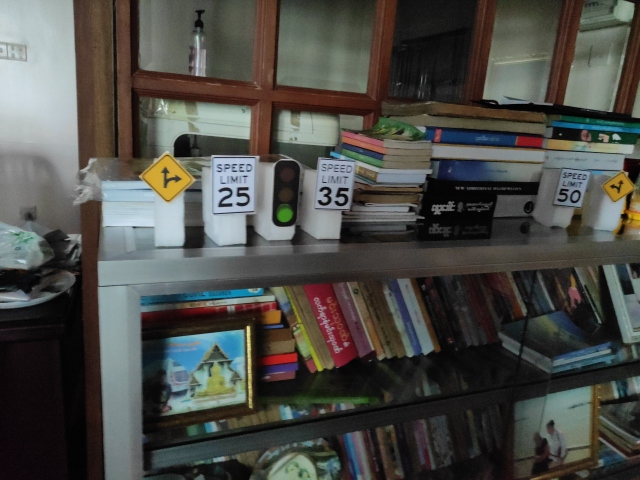Green Traffic Light: (272, 159, 301, 227)
Speed Limit 25: (211, 154, 258, 213)
Speed Limit 35: (314, 157, 355, 211)
Straight Or Right Sign: (141, 151, 196, 203)
